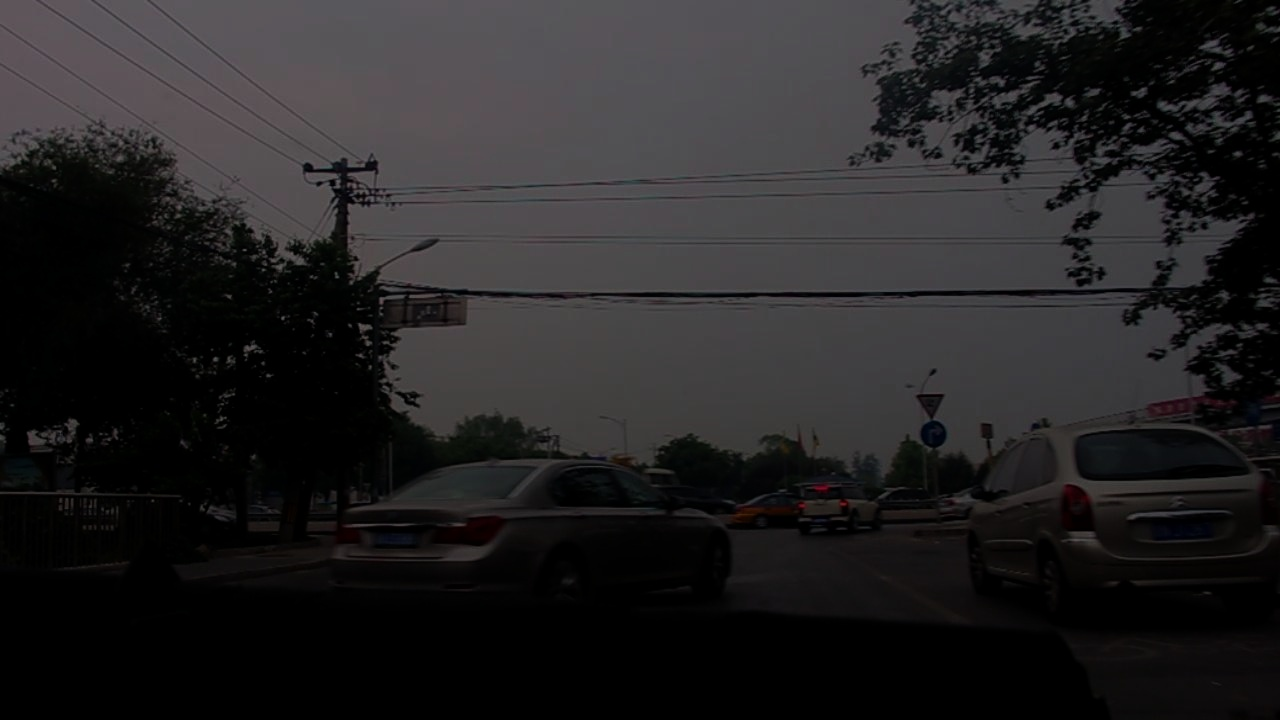Informative Signs: (920, 419, 948, 449)
Prohibitory Signs: (914, 392, 946, 419)
